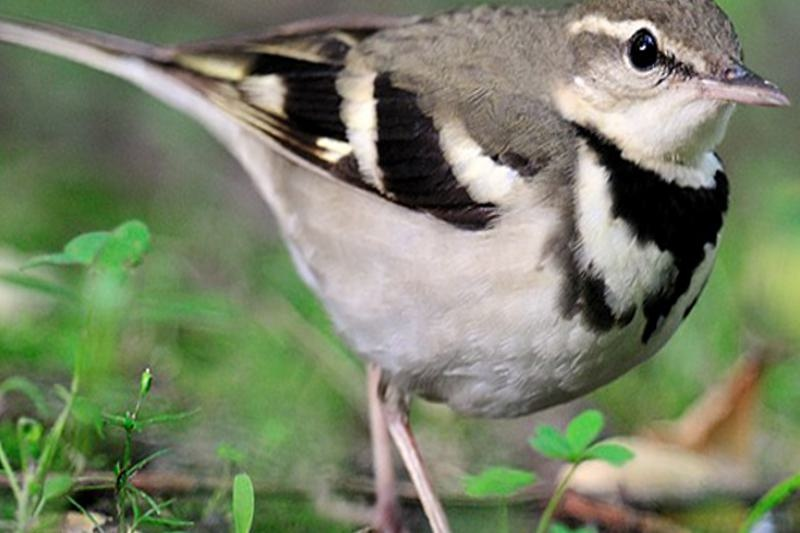wagtail: (159, 1, 788, 402)
